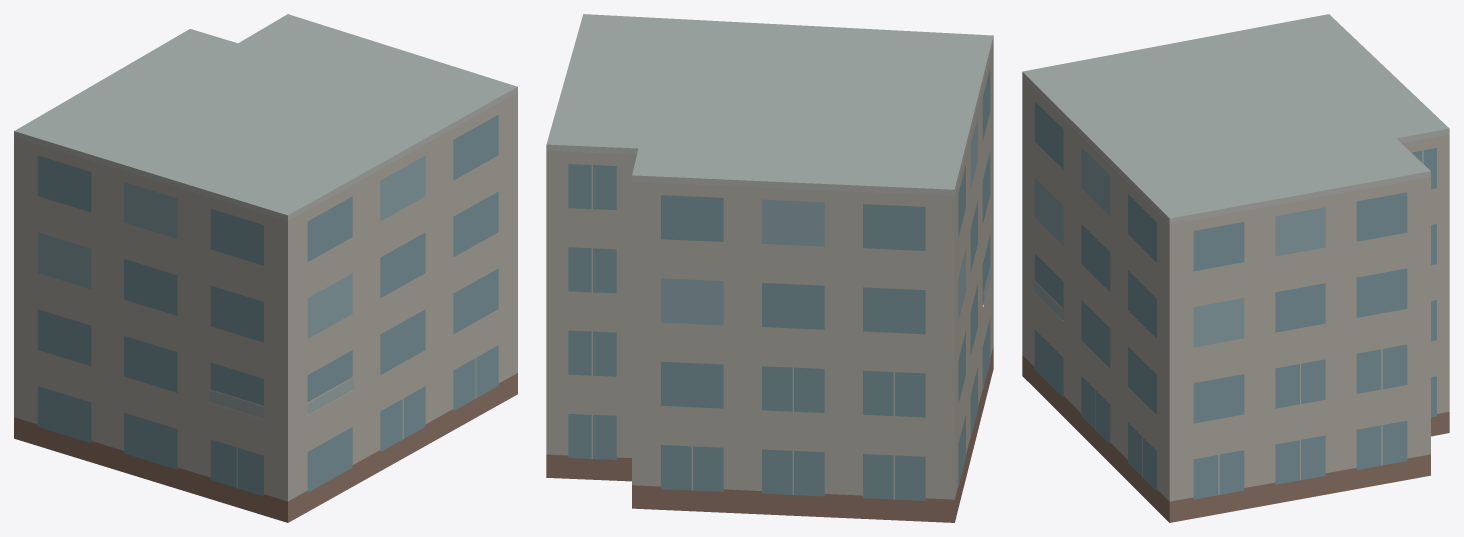
Rendered from survey-upis-32931445.glb.
The picture shows the model from 3 angles, left to right: view 1: azimuth 30°, elevation 25°; view 2: azimuth 150°, elevation 25°; view 3: azimuth 270°, elevation 25°; orthographic projection. The views are drawn at different scales.
Visible parts, largest first — view 1: survey-upis-32931445.tmp; view 2: survey-upis-32931445.tmp; view 3: survey-upis-32931445.tmp.
Part boxes in pixels (x1,y1,x2,y2): survey-upis-32931445.tmp: (14, 14, 517, 522); survey-upis-32931445.tmp: (546, 14, 993, 522); survey-upis-32931445.tmp: (1022, 14, 1449, 522).
Bounding box in the file's own units: 18.74 × 13 × 16.54.
